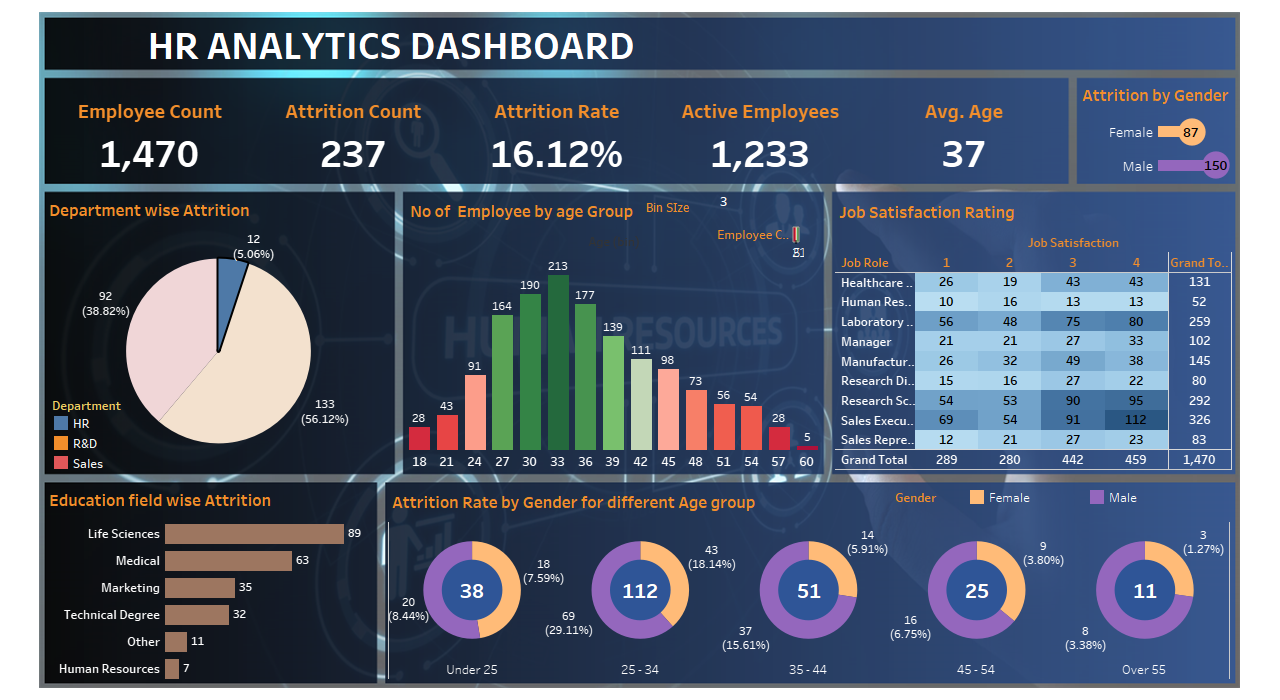

The page's visual inventory and layout, read from the dashboard file:
{"tool":"tableau","page":{"name":"HR Analystics Dashboard","canvas":[1280,700],"ordinal":0},"visuals":[{"type":"image","param":"Image/Slide1.PNG","box":[8,8,1264,684]},{"type":"text","box":[145,19,514,50]},{"type":"worksheet","title":"Attrition by Gender","mark":"Automatic","rows":["Gender"],"cols":["Calculation_1034420540371533824","Calculation_1034420540371533824"],"box":[1078,78,155,104]},{"type":"worksheet","title":"KPI","mark":"Automatic","box":[48,83,1018,98]},{"type":"worksheet","title":"Department wise Attrition","mark":"Pie","box":[45,193,347,279]},{"type":"parameter","param":"[Parameters].[Parameter 1]","box":[646,193,174,28]},{"type":"worksheet","title":"No of  Employee by age Group","mark":"Automatic","rows":["Employee Count"],"cols":["Age (bin)"],"box":[406,194,415,277]},{"type":"worksheet","title":"Job Satisfaction Rating","mark":"Square","rows":["Job Role"],"cols":["Job Satisfaction"],"box":[835,195,397,275]},{"type":"legend","title":"No of  Employee by age Group","param":"[federated.0tk3y8813kro2m1gwuou01uii12w].[sum:Employee Count:qk]","box":[717,223,87,38]},{"type":"legend","title":"Department wise Attrition","param":"[federated.0tk3y8813kro2m1gwuou01uii12w].[none:Department:nk]","box":[51,395,88,74]},{"type":"worksheet","title":"Education field wise Attrition","mark":"Automatic","rows":["Education Field"],"cols":["Calculation_1034420540371533824"],"box":[45,483,331,199]},{"type":"worksheet","title":"Attrition Rate by Gender for different Age group","mark":"Pie","rows":["Calculation_758575063230791681","Calculation_758575063230791681"],"cols":["CF_age band"],"box":[388,485,842,195]},{"type":"legend","title":"Attrition Rate by Gender for different Age group","param":"[federated.0tk3y8813kro2m1gwuou01uii12w].[none:Gender:nk]","box":[895,487,337,27]}]}

Visuals, with their boxes in screenshot pixels (x1, y1, x2, y2), scaled from the page's 1280x700 canvas onto the 1280x700 screenshot:
image: BBox(8, 8, 1272, 692)
text: BBox(145, 19, 659, 69)
"Attrition by Gender" worksheet: BBox(1078, 78, 1233, 182)
"KPI" worksheet: BBox(48, 83, 1066, 181)
"Department wise Attrition" worksheet (Pie marks): BBox(45, 193, 392, 472)
parameter: BBox(646, 193, 820, 221)
"No of  Employee by age Group" worksheet: BBox(406, 194, 821, 471)
"Job Satisfaction Rating" worksheet (Square marks): BBox(835, 195, 1232, 470)
"No of  Employee by age Group" legend: BBox(717, 223, 804, 261)
"Department wise Attrition" legend: BBox(51, 395, 139, 469)
"Education field wise Attrition" worksheet: BBox(45, 483, 376, 682)
"Attrition Rate by Gender for different Age group" worksheet (Pie marks): BBox(388, 485, 1230, 680)
"Attrition Rate by Gender for different Age group" legend: BBox(895, 487, 1232, 514)
